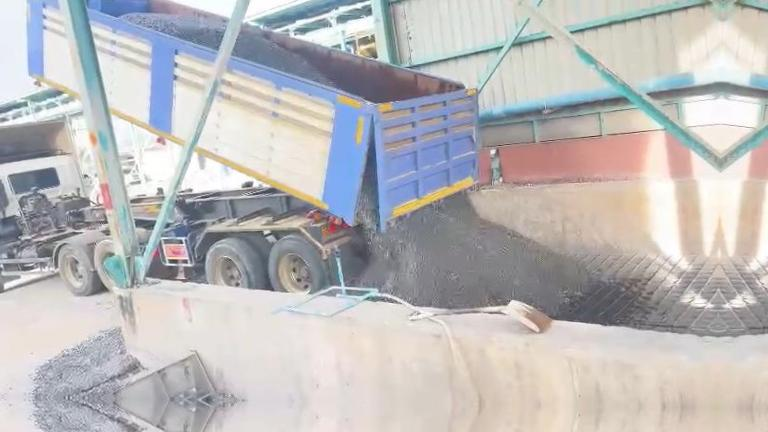gravel: (344, 156, 589, 314), (31, 329, 140, 398), (233, 28, 334, 85), (121, 13, 226, 49)
